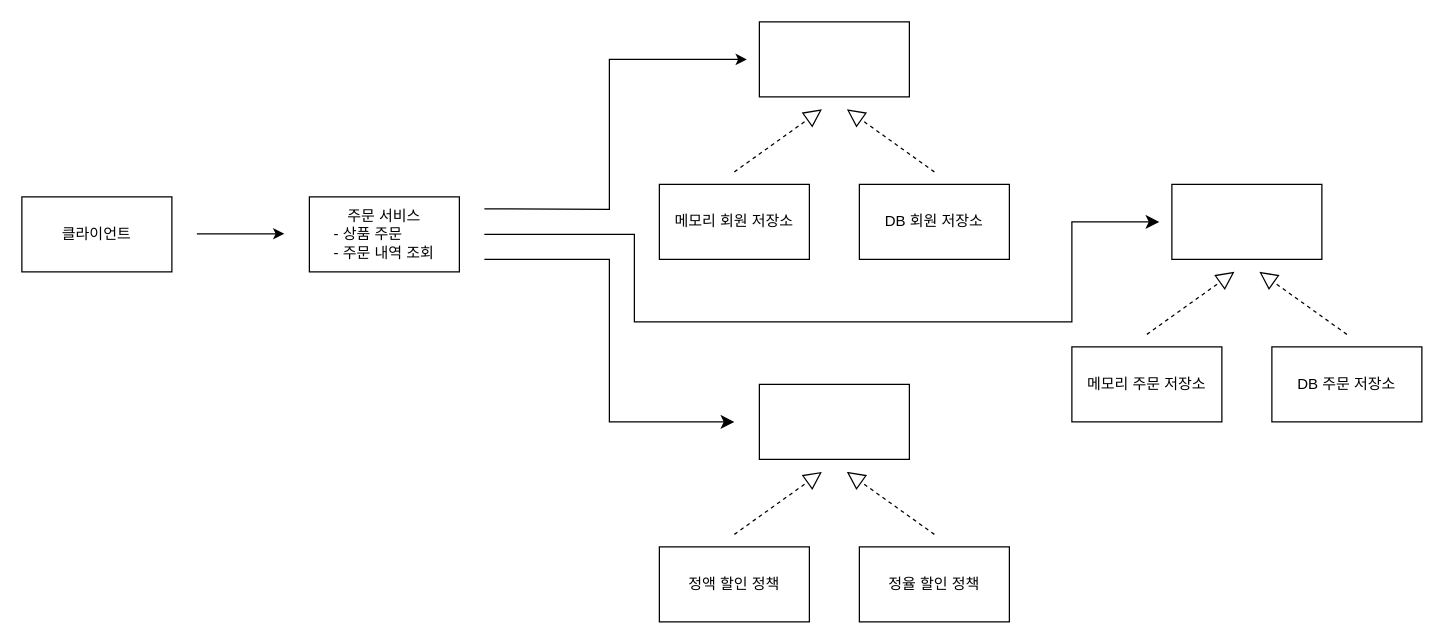
Some shapes in this 1444 by 644 pixel diagram are drawn without their labels. Each missing label, with the centre of its shape:
"주문 저장소" belongs at (x=1246, y=221).
"할인 정책" belongs at (x=833, y=421).
"회원 저장소" belongs at (x=833, y=59).
